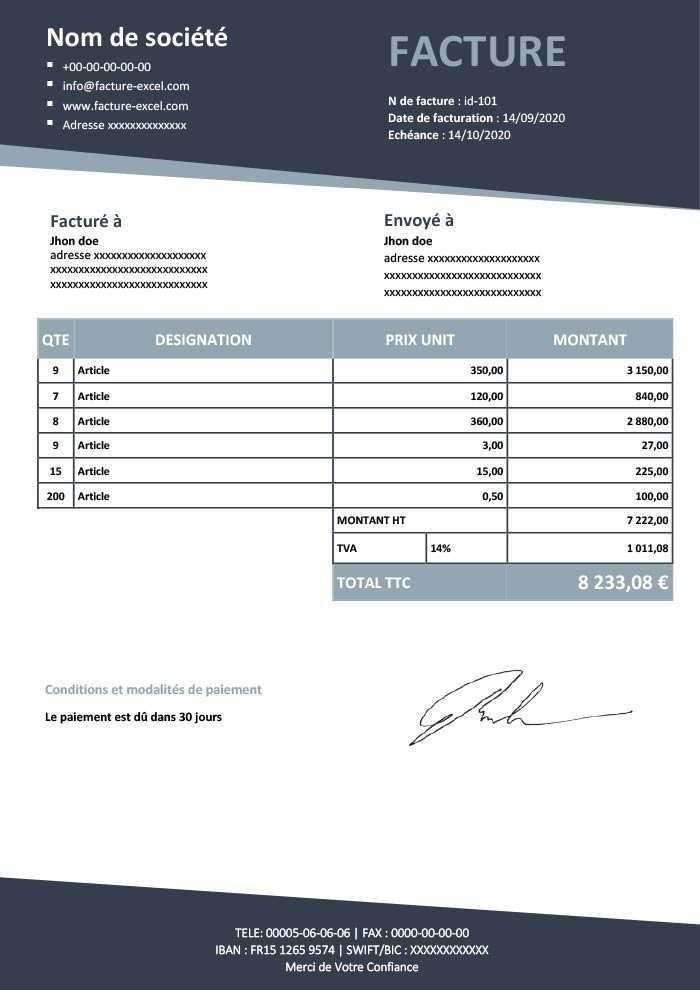ROI: (35, 321, 674, 506), (44, 200, 553, 307), (333, 510, 674, 602), (41, 18, 245, 137), (210, 927, 493, 978), (41, 676, 268, 731), (383, 92, 588, 151)
